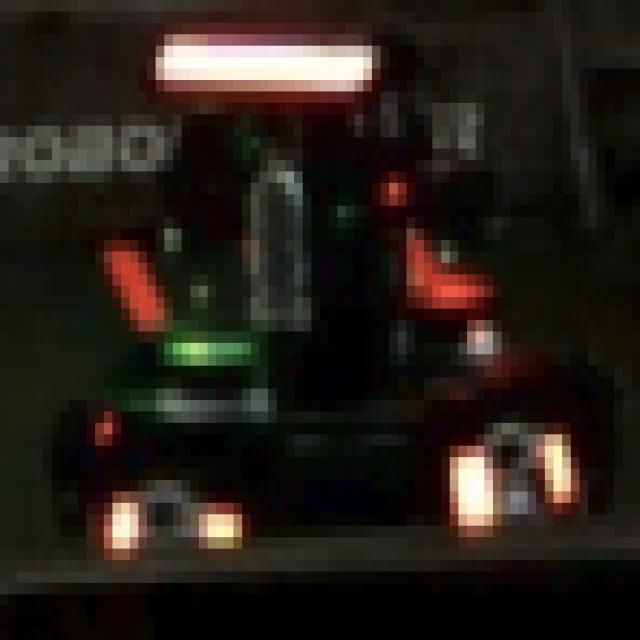Rs: (441, 423, 580, 526)
